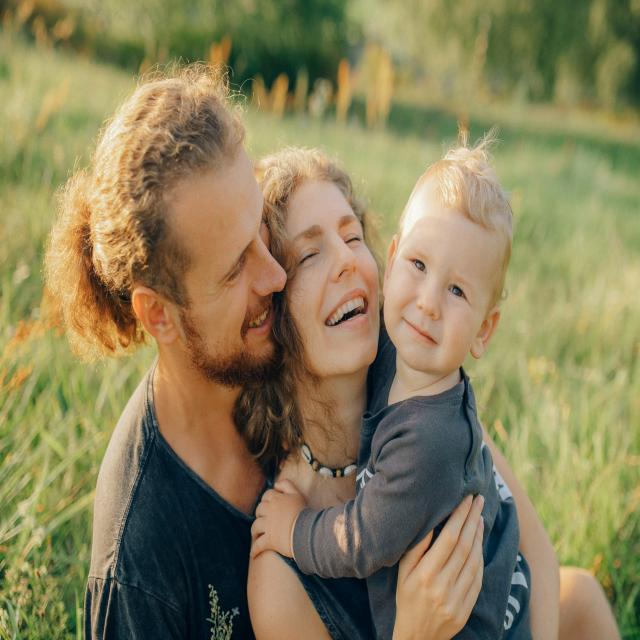adult: (80, 66, 285, 640), (246, 125, 384, 640)
child: (250, 140, 528, 640)
